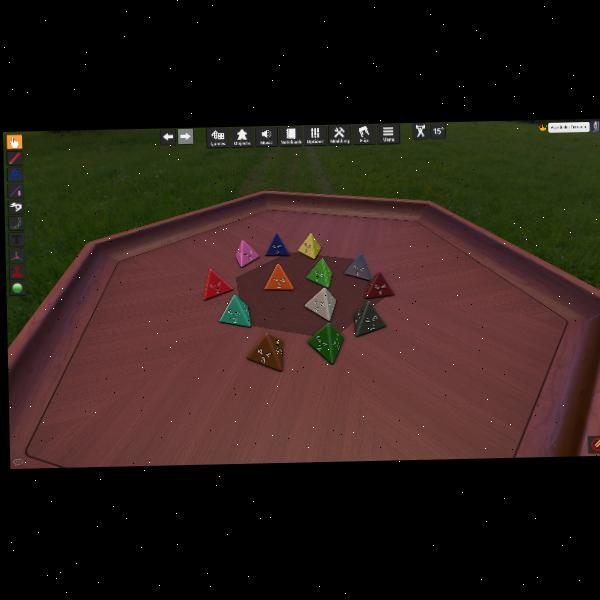d4: (307, 322, 344, 364), (248, 331, 286, 371), (353, 299, 386, 337), (303, 285, 335, 321), (218, 294, 250, 328), (204, 268, 233, 300), (263, 263, 294, 291), (365, 270, 394, 299), (304, 258, 331, 288), (344, 252, 370, 280), (234, 238, 259, 267), (265, 232, 290, 258), (298, 232, 319, 258)
